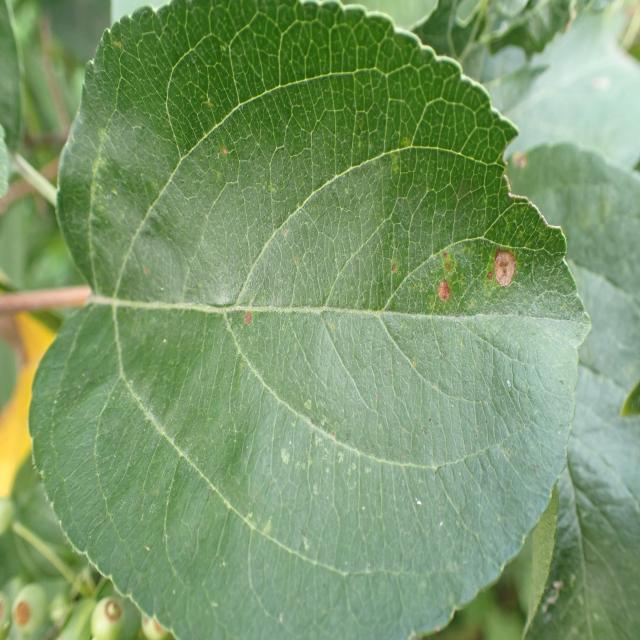Black Rot: (482, 235, 524, 301), (418, 282, 466, 316), (231, 294, 261, 348)
